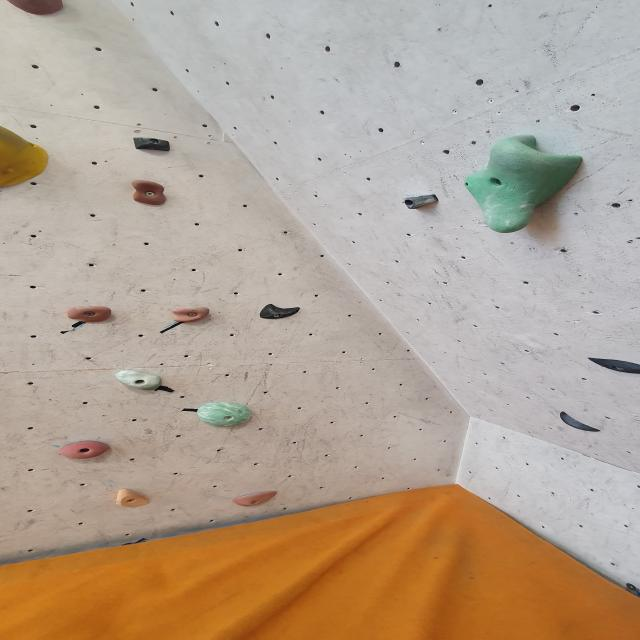Crimp: (226, 487, 286, 508)
Jug: (53, 438, 121, 462), (60, 304, 117, 326), (128, 178, 169, 208), (167, 304, 214, 322)
Pinch: (111, 486, 154, 510), (127, 134, 178, 154), (399, 193, 442, 211)
Sloper: (458, 137, 589, 239), (191, 398, 268, 431), (113, 367, 166, 393), (0, 0, 68, 18)
